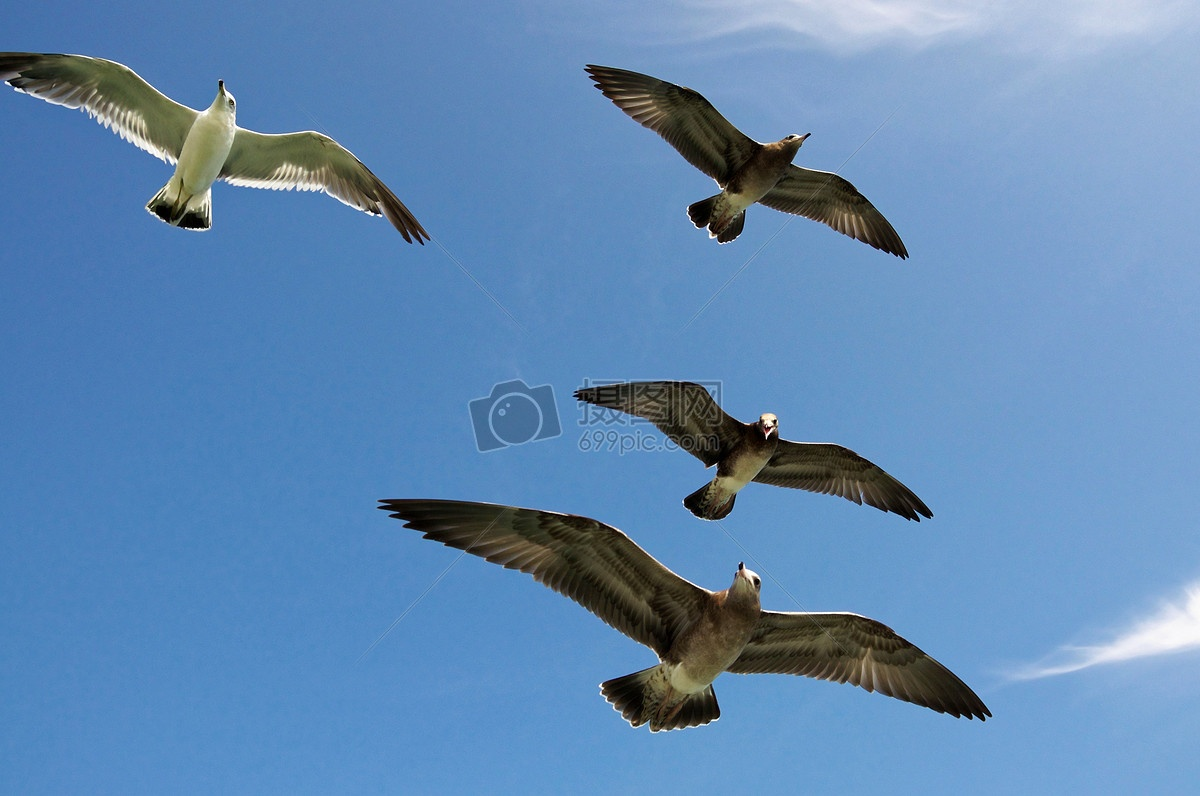bird: (376, 490, 999, 736), (1, 44, 441, 255), (579, 60, 919, 266), (570, 370, 939, 539)
